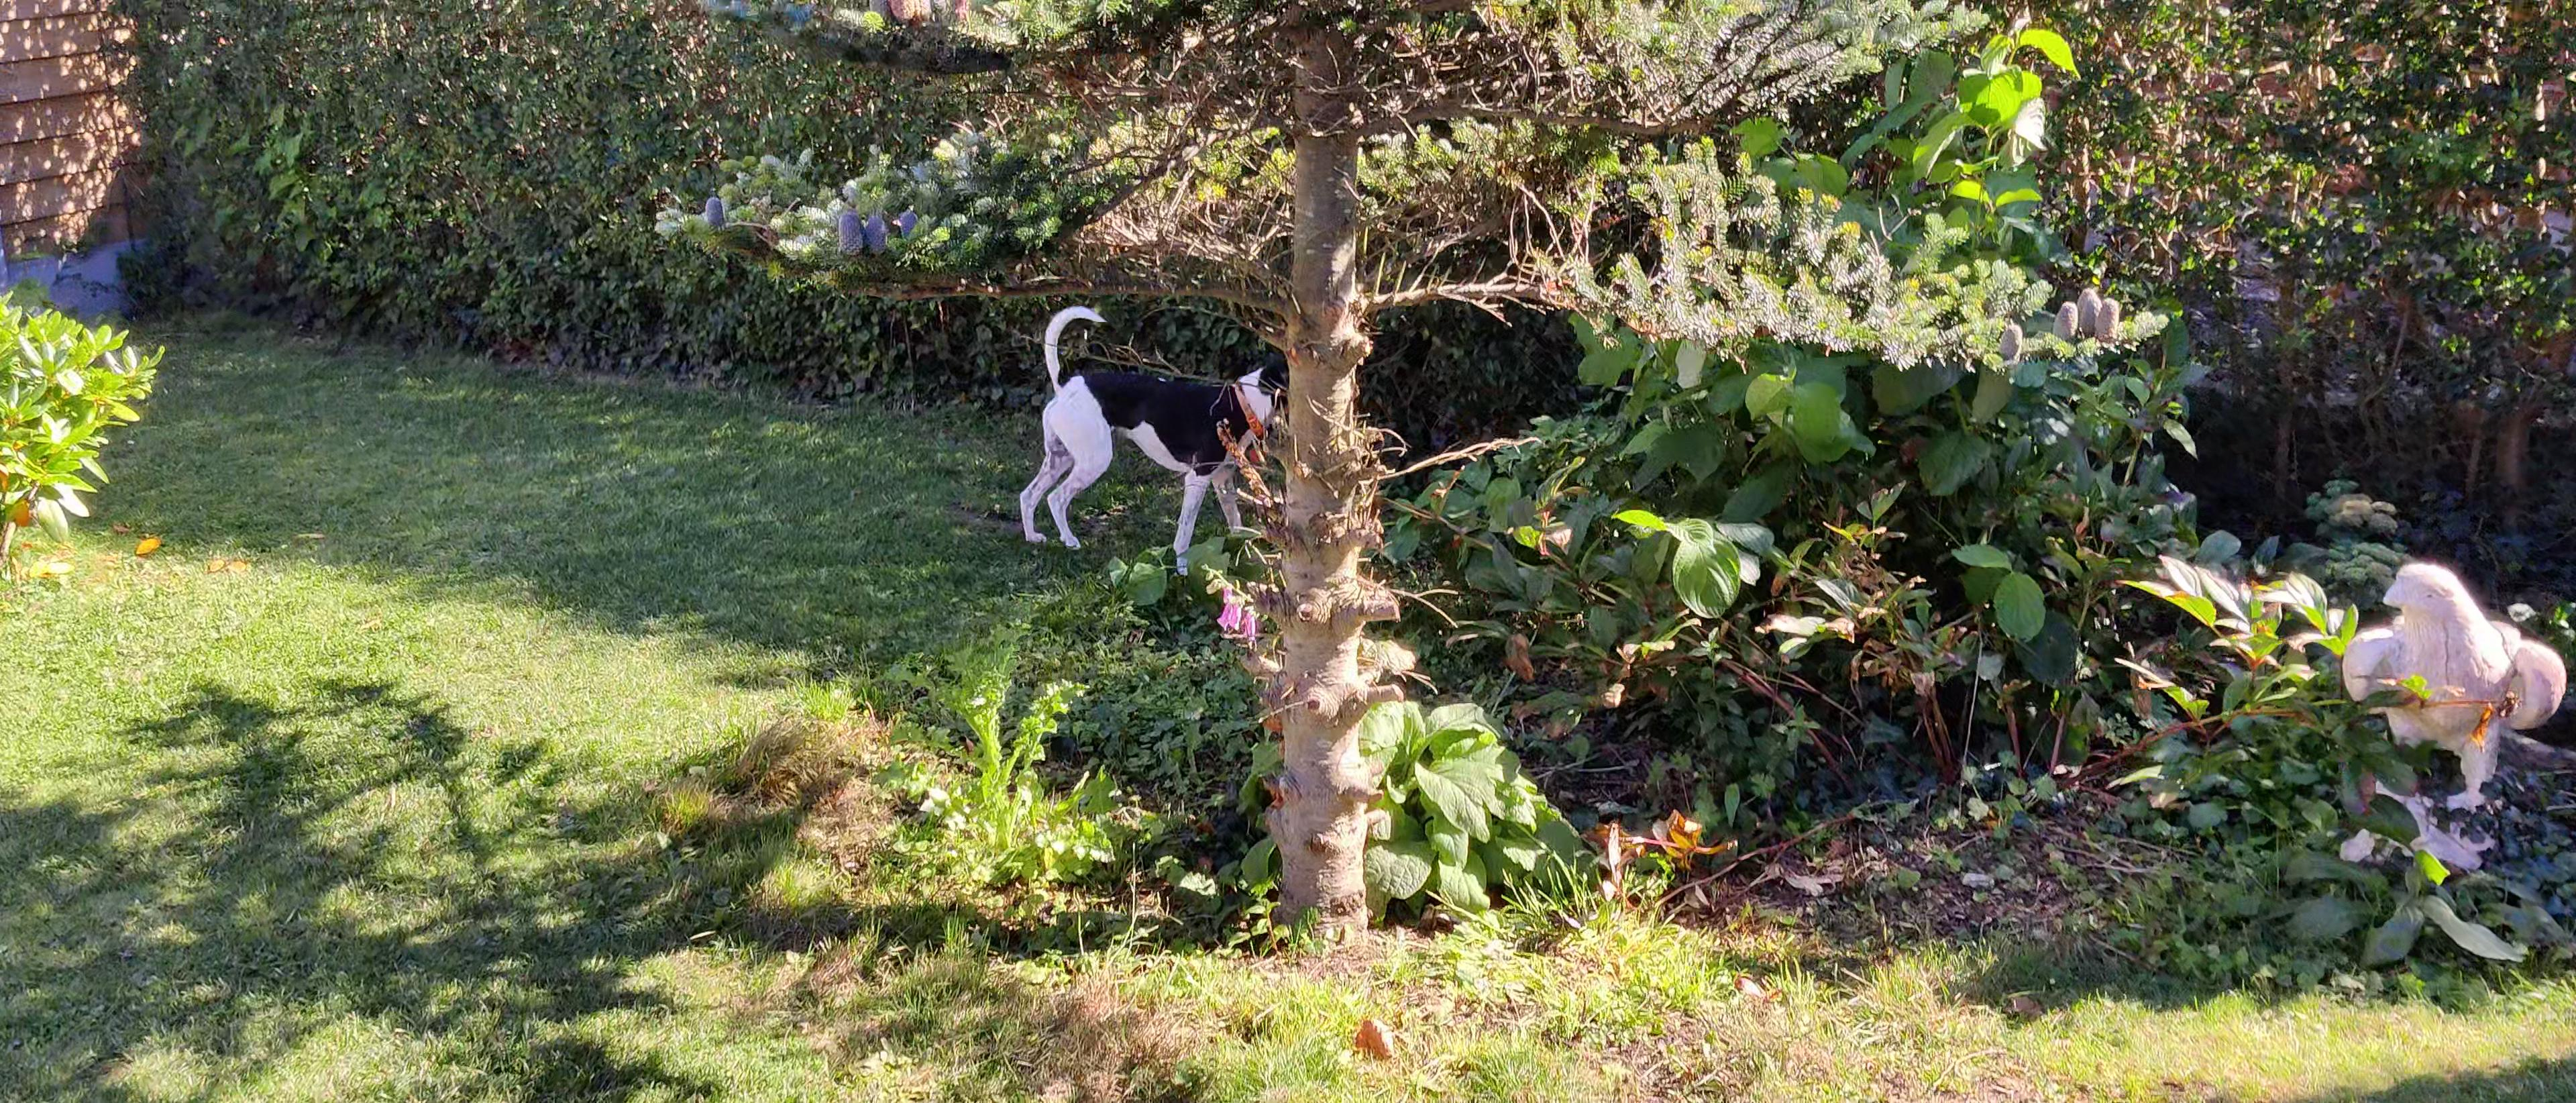Dog: (1017, 302, 1293, 557)
